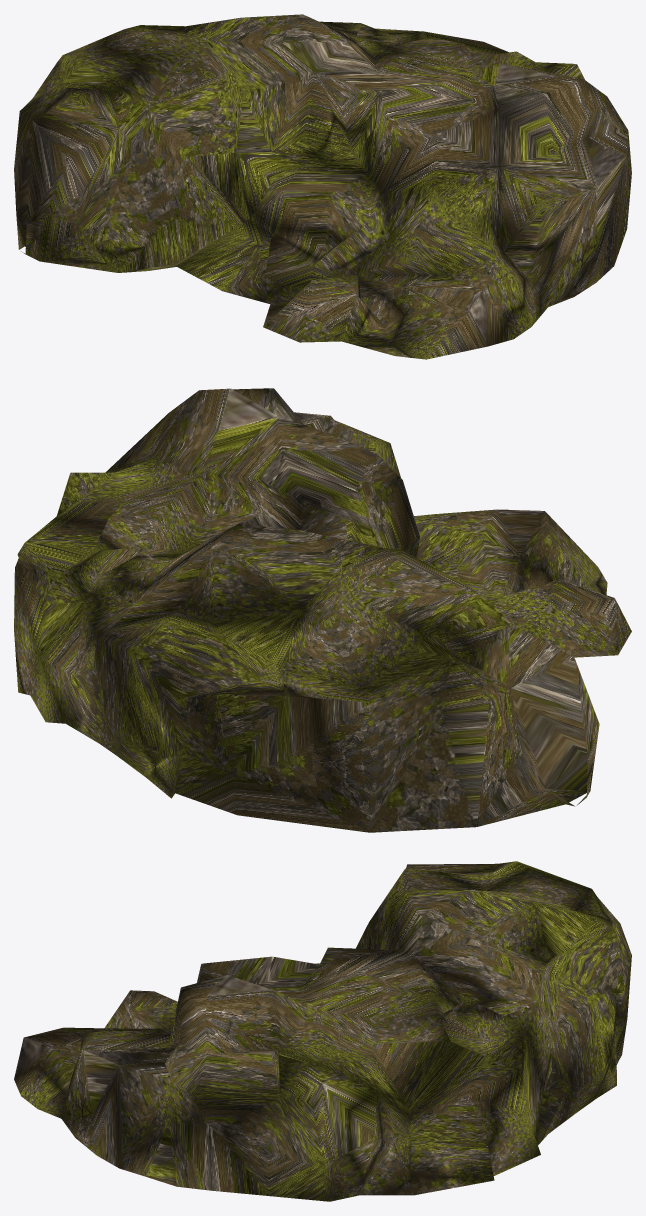
The model's file is rock_small_far.glb.
3 renders of one model, top to bottom at view 1: azimuth 30°, elevation 25°; view 2: azimuth 150°, elevation 25°; view 3: azimuth 270°, elevation 25°, orthographic. The views are drawn at different scales.
Size of the model in its own units: 1.69 by 0.5212 by 1.75.
Materials: 1 (1 with a texture image).
